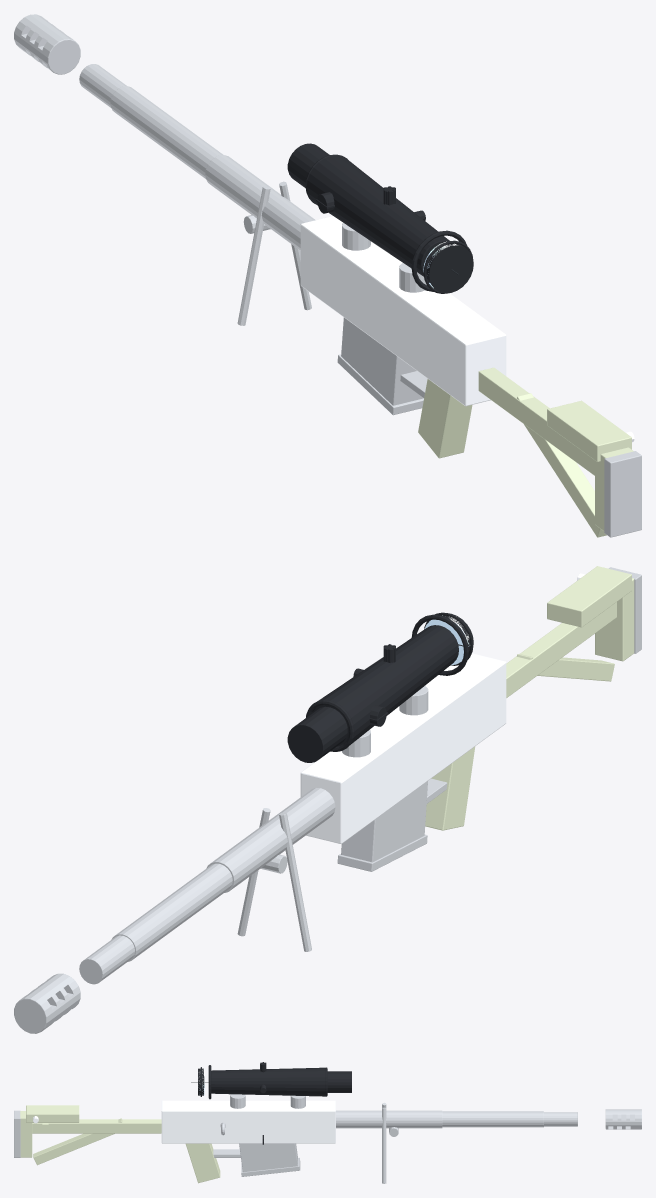
File: awm.glb
3 views of the same model, one above another, from view 1: azimuth 30°, elevation 25°; view 2: azimuth 150°, elevation 25°; view 3: azimuth 270°, elevation 25° (orthographic). The views are drawn at different scales.
Parts seen in each view (by area): view 1: Receiver, ScopeTubeBody, Barrel, Stock, mag, ButtPad, CheekRest, Grip, MuzzleBrake, ScopeLensBlack, BipodLegL, ScopeMounts; view 2: Receiver, ScopeTubeBody, Barrel, Stock, mag, CheekRest, MuzzleBrake, Grip, BipodLegL, ScopeMounts, ButtPad, BipodLegR; view 3: Receiver, Barrel, ScopeTubeBody, Stock, mag, Grip, CheekRest, MuzzleBrake, ScopeMounts, BipodLegR, ButtPad, TriggerGuardTop.
Part boxes in pixels (x1,y1,x2,y2): Receiver: [300, 216, 506, 406]; ScopeTubeBody: [287, 143, 467, 291]; Barrel: [79, 64, 315, 250]; Stock: [478, 367, 633, 537]; mag: [337, 317, 423, 415]; ButtPad: [604, 451, 641, 537]; CheekRest: [547, 400, 631, 461]; Grip: [418, 379, 472, 458]; MuzzleBrake: [14, 14, 80, 74]; ScopeLensBlack: [424, 243, 473, 293]; BipodLegL: [237, 186, 270, 325]; ScopeMounts: [342, 223, 426, 292]; Receiver: [300, 653, 506, 843]; ScopeTubeBody: [287, 614, 468, 762]; Barrel: [79, 787, 335, 984]; Stock: [506, 578, 634, 697]; mag: [337, 781, 427, 871]; CheekRest: [547, 566, 631, 627]; MuzzleBrake: [14, 973, 80, 1033]; Grip: [425, 746, 475, 830]; BipodLegL: [279, 812, 311, 951]; ScopeMounts: [342, 686, 428, 757]; ButtPad: [609, 567, 641, 653]; BipodLegR: [237, 808, 270, 936]; Receiver: [161, 1100, 335, 1143]; Barrel: [336, 1110, 577, 1128]; ScopeTubeBody: [208, 1062, 351, 1144]; Stock: [20, 1111, 161, 1165]; mag: [239, 1143, 300, 1176]; Grip: [185, 1143, 220, 1183]; CheekRest: [26, 1105, 79, 1122]; MuzzleBrake: [605, 1109, 641, 1129]; ScopeMounts: [230, 1094, 305, 1108]; BipodLegR: [382, 1107, 386, 1183]; ButtPad: [14, 1110, 20, 1157]; TriggerGuardTop: [213, 1149, 240, 1157].
Bounding box in the file's own units: 0.0989 × 0.2659 × 1.3.
